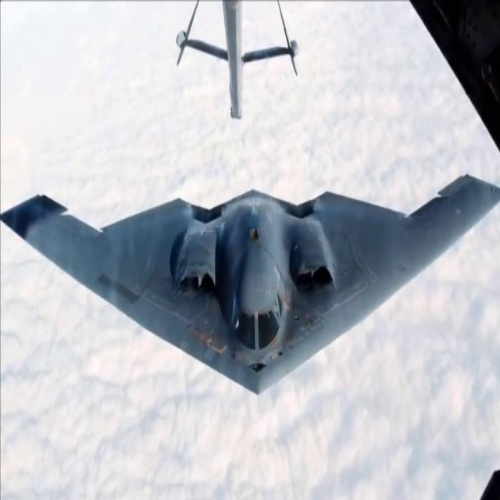uav: (2, 166, 497, 397)
